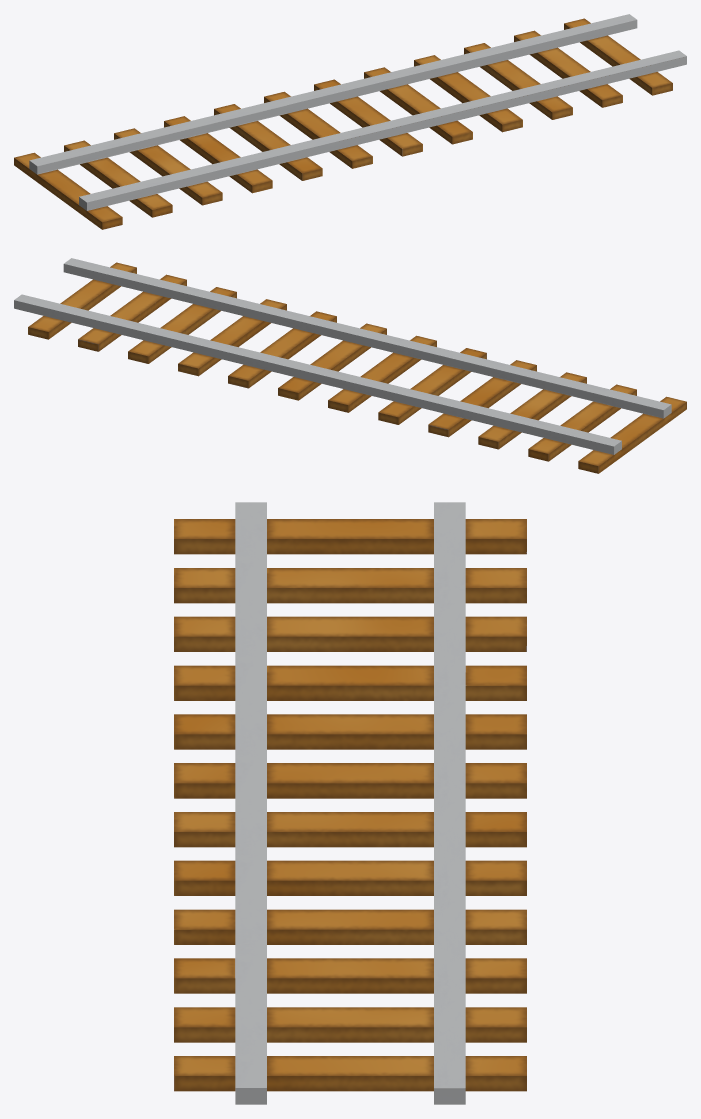
Rendered from rail.001.fbx.
3 views of the same model, one above another, from view 1: azimuth 30°, elevation 25°; view 2: azimuth 150°, elevation 25°; view 3: azimuth 270°, elevation 25° (orthographic). The views are drawn at different scales.
Visible parts, largest first — view 1: rail.001; view 2: rail.001; view 3: rail.001.
Part boxes in pixels (x1,y1,x2,y2): rail.001: (14,14,686,229); rail.001: (14,258,686,473); rail.001: (174,502,526,1104).
Size of the model in its own units: 5.88 by 0.1509 by 1.5.
